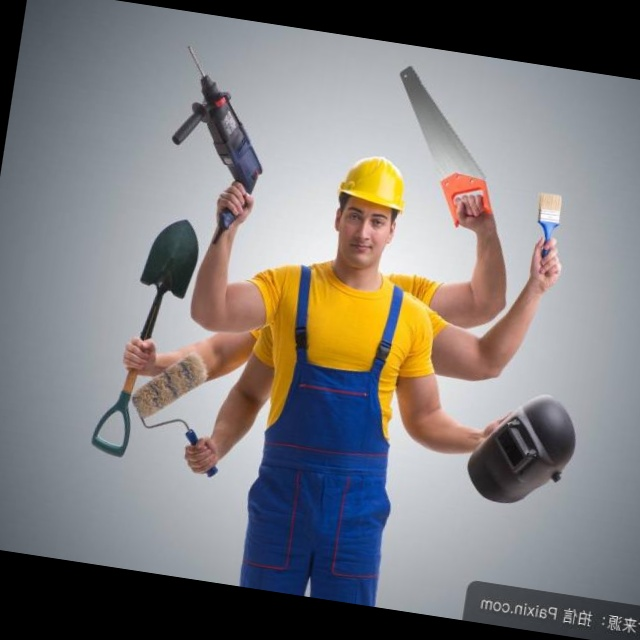Con_Casco: (328, 150, 410, 269)
Sin_Chaleco: (251, 258, 422, 503)
